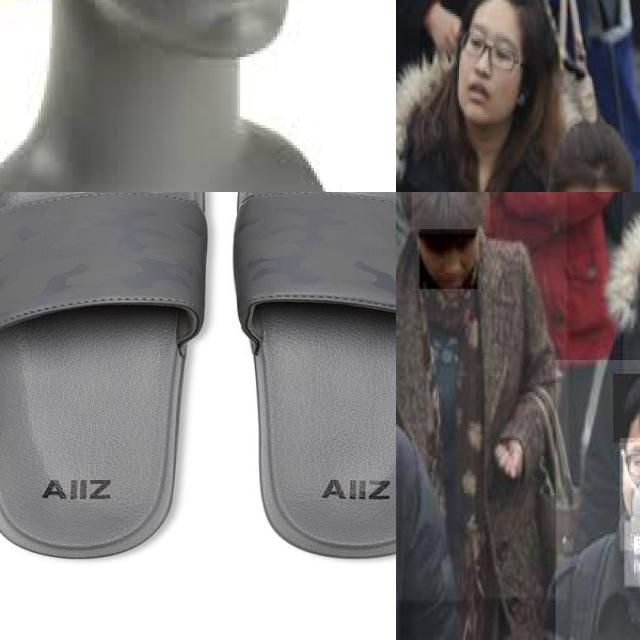Sandals: (0, 192, 396, 601)
face_mask: (619, 437, 640, 550)
face_nomask: (454, 14, 525, 126), (419, 229, 478, 291)
glasses: (456, 27, 520, 72), (624, 445, 640, 487)
head_nohelmet: (550, 126, 630, 192), (411, 192, 491, 233), (462, 0, 547, 23), (613, 373, 640, 442)
person: (396, 192, 568, 600), (396, 238, 477, 640), (396, 0, 563, 192), (555, 360, 640, 640), (534, 98, 640, 192)
